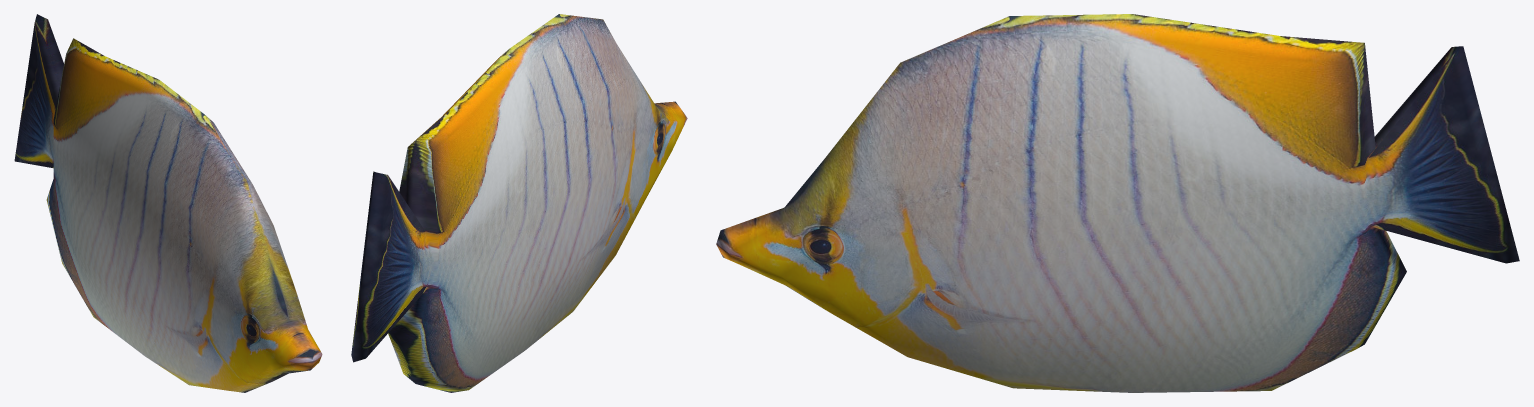
File: blockout fish.fbx
The picture shows the model from 3 angles, left to right: view 1: azimuth 30°, elevation 25°; view 2: azimuth 150°, elevation 25°; view 3: azimuth 270°, elevation 25°; orthographic projection. The views are drawn at different scales.
Visible parts, largest first — view 1: pCube1; view 2: pCube1; view 3: pCube1.
Boxes of the visible parts, box(x1,y1,x2,y2) form: pCube1: box(14, 14, 322, 392); pCube1: box(351, 14, 687, 392); pCube1: box(716, 14, 1519, 392).
Size of the model in its own units: 3.12 by 11.16 by 21.63.
